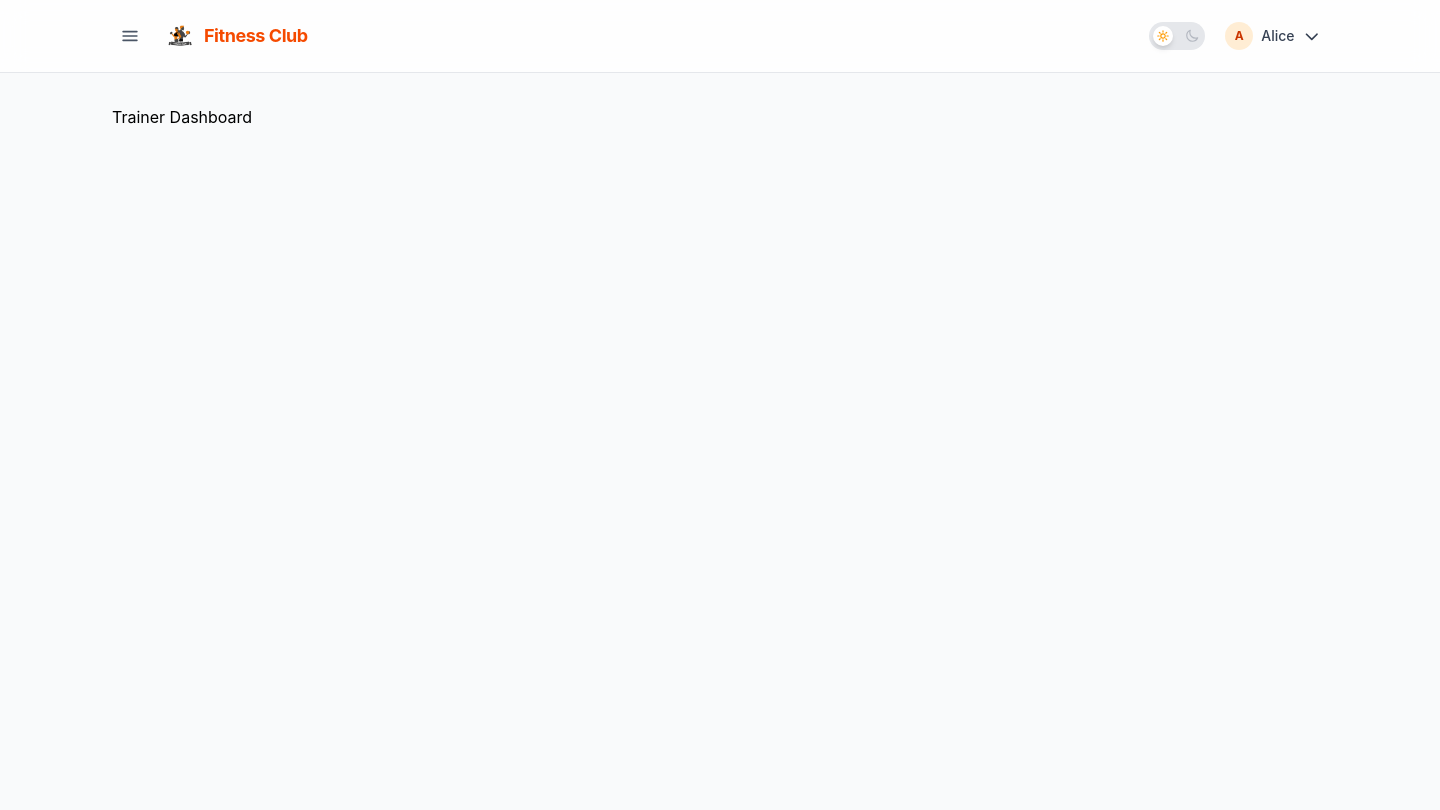
Layout › sidebar mode › shows nav links in sidebar panel
Click the button named "Open menu" at point(130, 36), box [112,18,148,54]
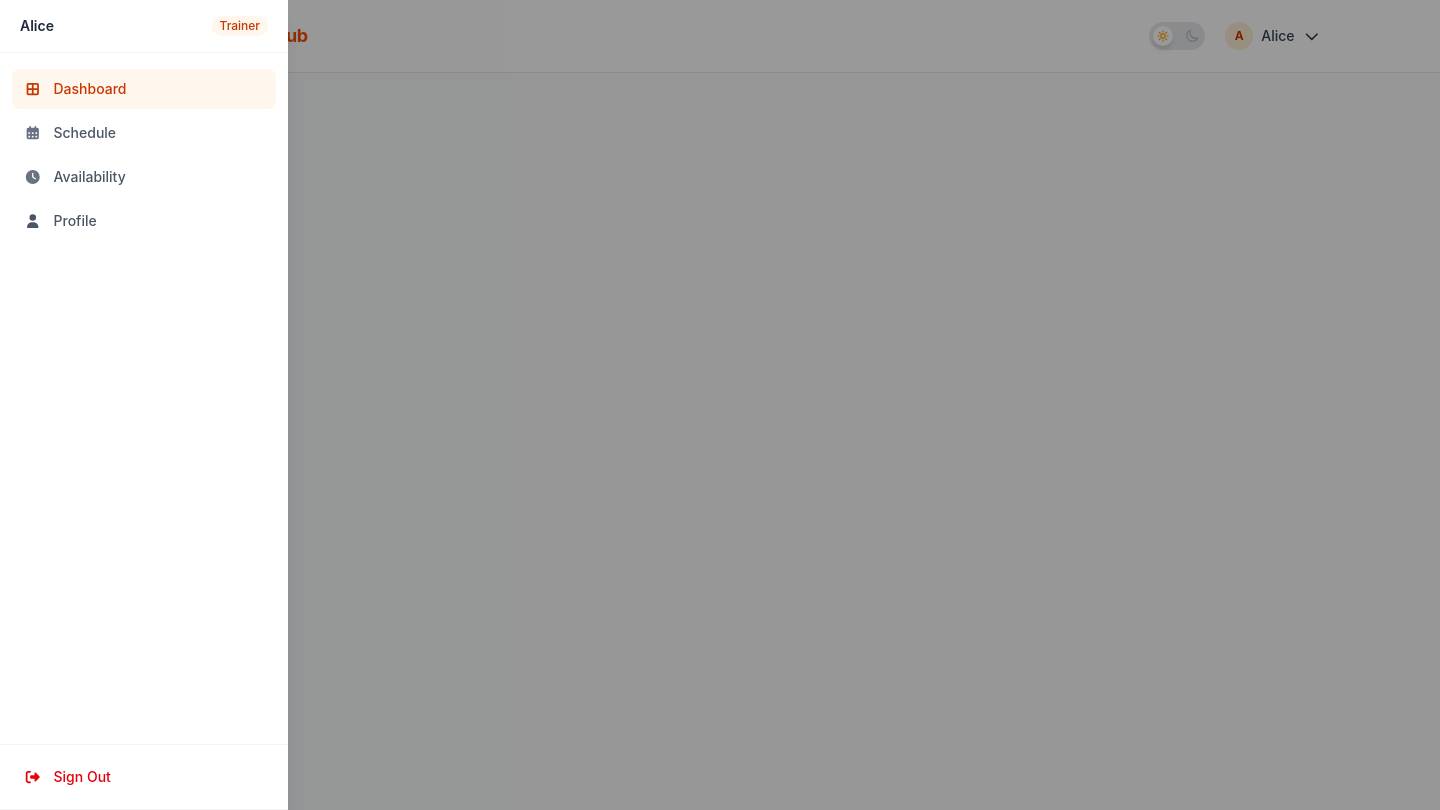
Expected: the link "Availability" is shown, [24,168,126,185]
